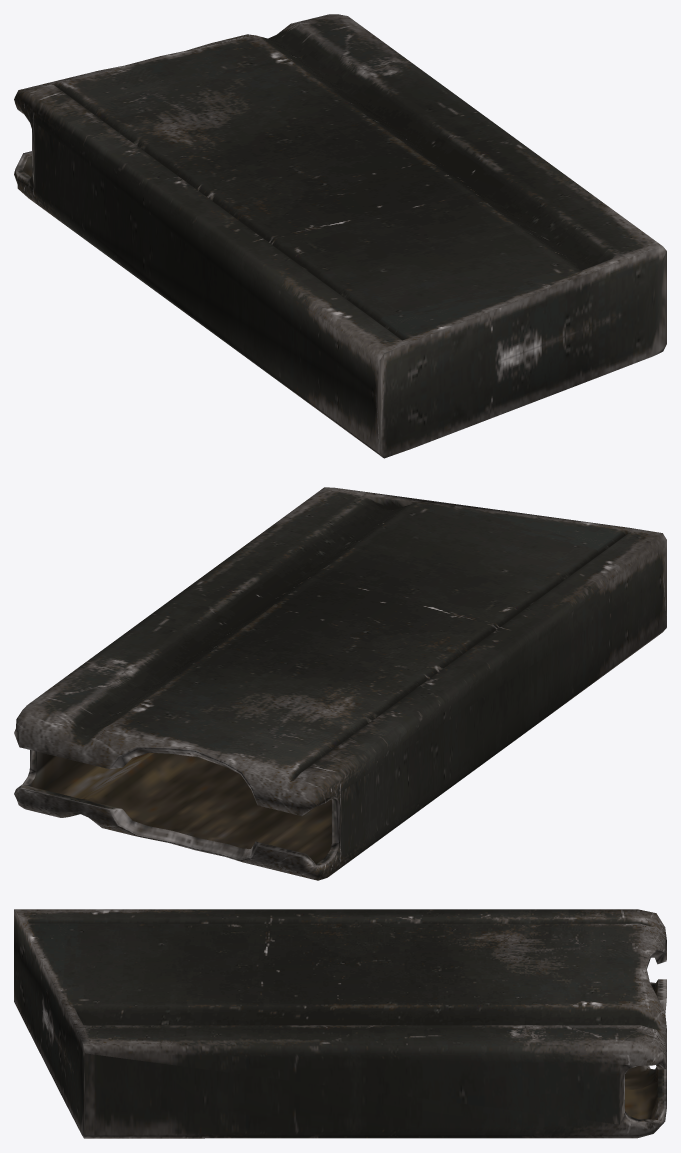
Rendered from MagM1GarandExtSm_Ground.fbx.
3 renders of one model, top to bottom at view 1: azimuth 30°, elevation 25°; view 2: azimuth 150°, elevation 25°; view 3: azimuth 270°, elevation 25°, orthographic. The views are drawn at different scales.
Visible parts, largest first — view 1: MagM1GarandExtSm; view 2: MagM1GarandExtSm; view 3: MagM1GarandExtSm.
Boxes of the visible parts, left/top/right/bottom form: MagM1GarandExtSm: left=14, top=14, right=666, bottom=458; MagM1GarandExtSm: left=14, top=487, right=666, bottom=880; MagM1GarandExtSm: left=14, top=909, right=666, bottom=1138.
Bounding box in the file's own units: 0.0436 × 0.0136 × 0.0857.
